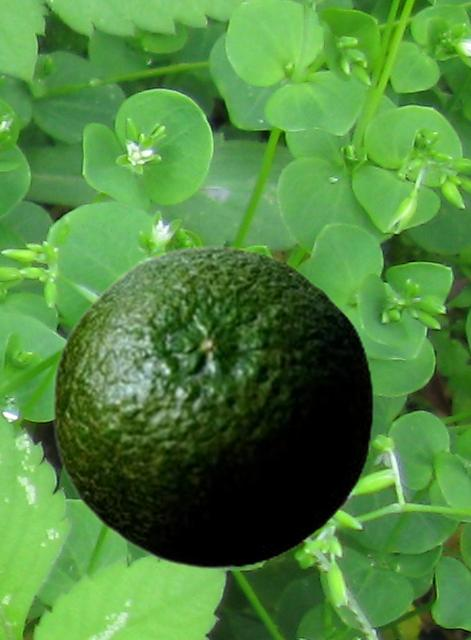calamansi: (51, 244, 373, 569)
